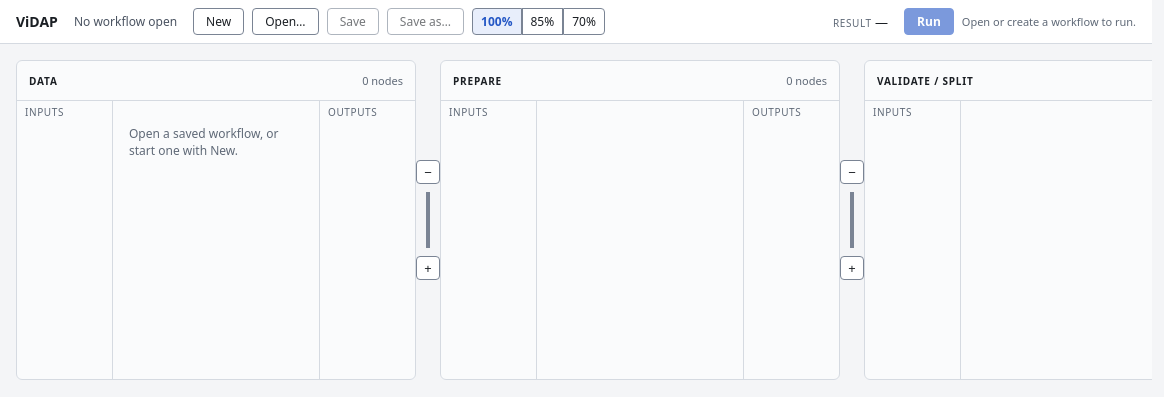
Test case: Graph authoring (P3-EP04B) › starts an untitled, unsaved, empty workflow with a fresh ID
Click the button "New". click: (219, 22)
box: [193,8,244,35]
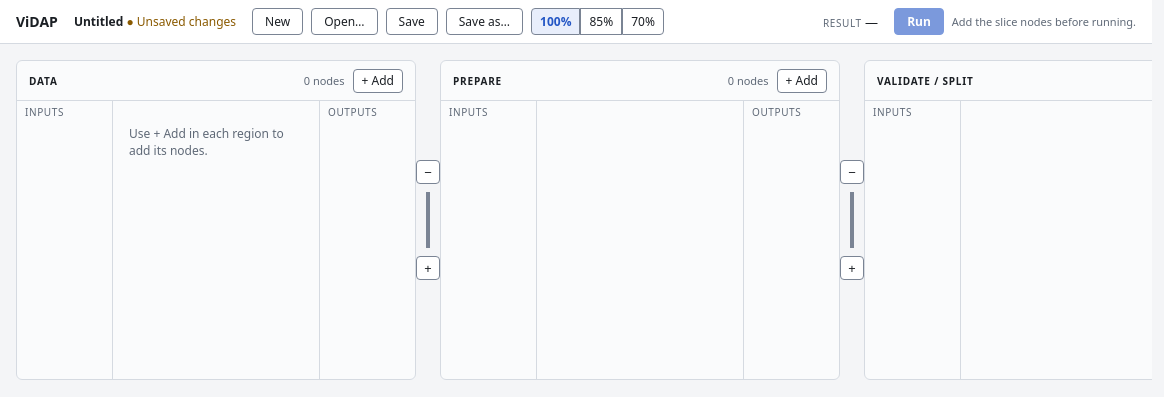
Result: the text "Untitled" is shown at [74,13,123,30]
Result: the text "● Unsaved changes" is shown at [126,13,236,30]
Result: the text "Use + Add in each region to add its nodes." is shown at [129,125,303,159]
